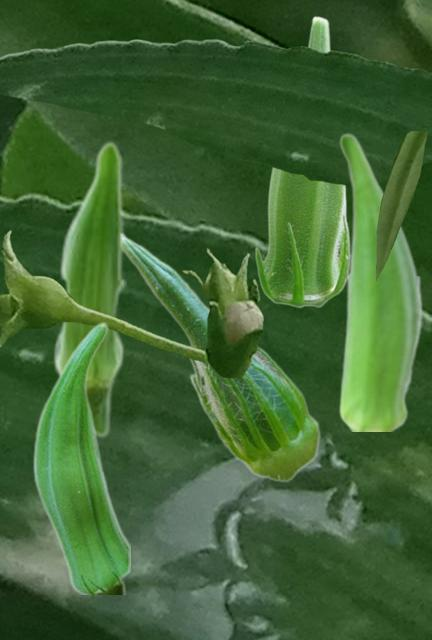okra: (125, 233, 320, 481), (254, 15, 350, 307), (32, 321, 129, 593), (338, 132, 422, 430), (52, 140, 125, 438)
